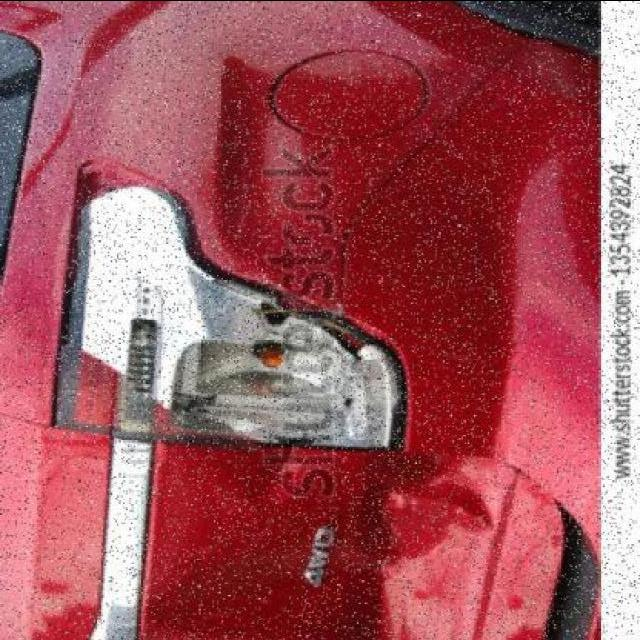Taillight-Damage: (60, 178, 423, 474)
